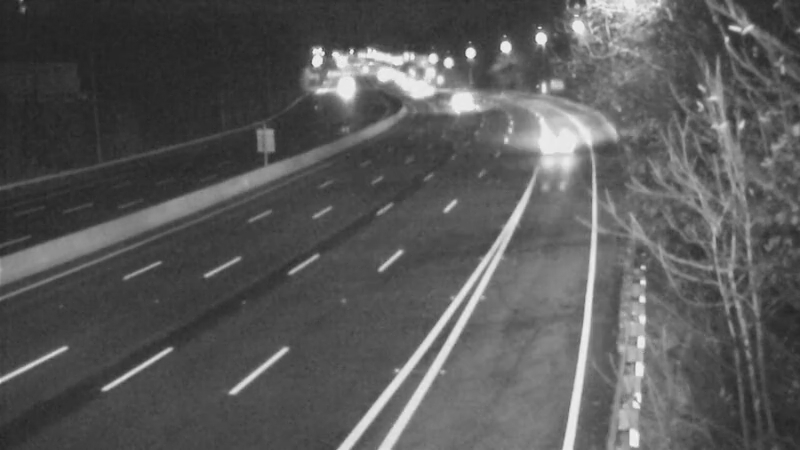vehicle: (397, 65, 447, 115), (433, 75, 483, 125), (527, 115, 577, 165)
